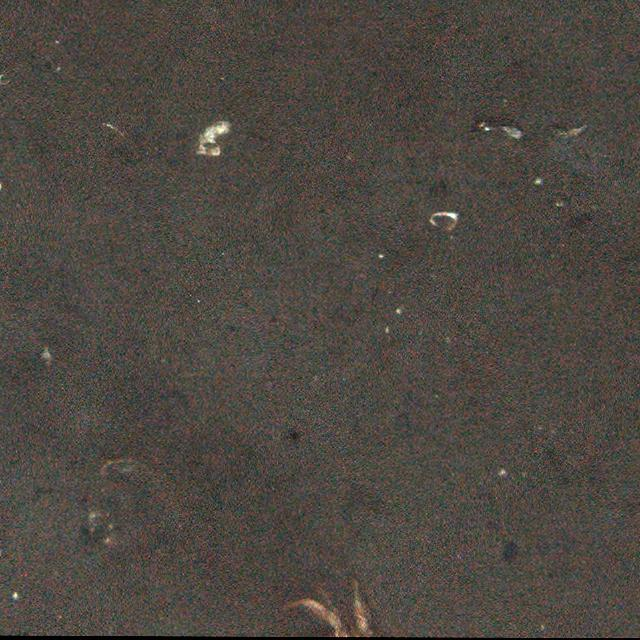crab: (280, 574, 378, 638)
